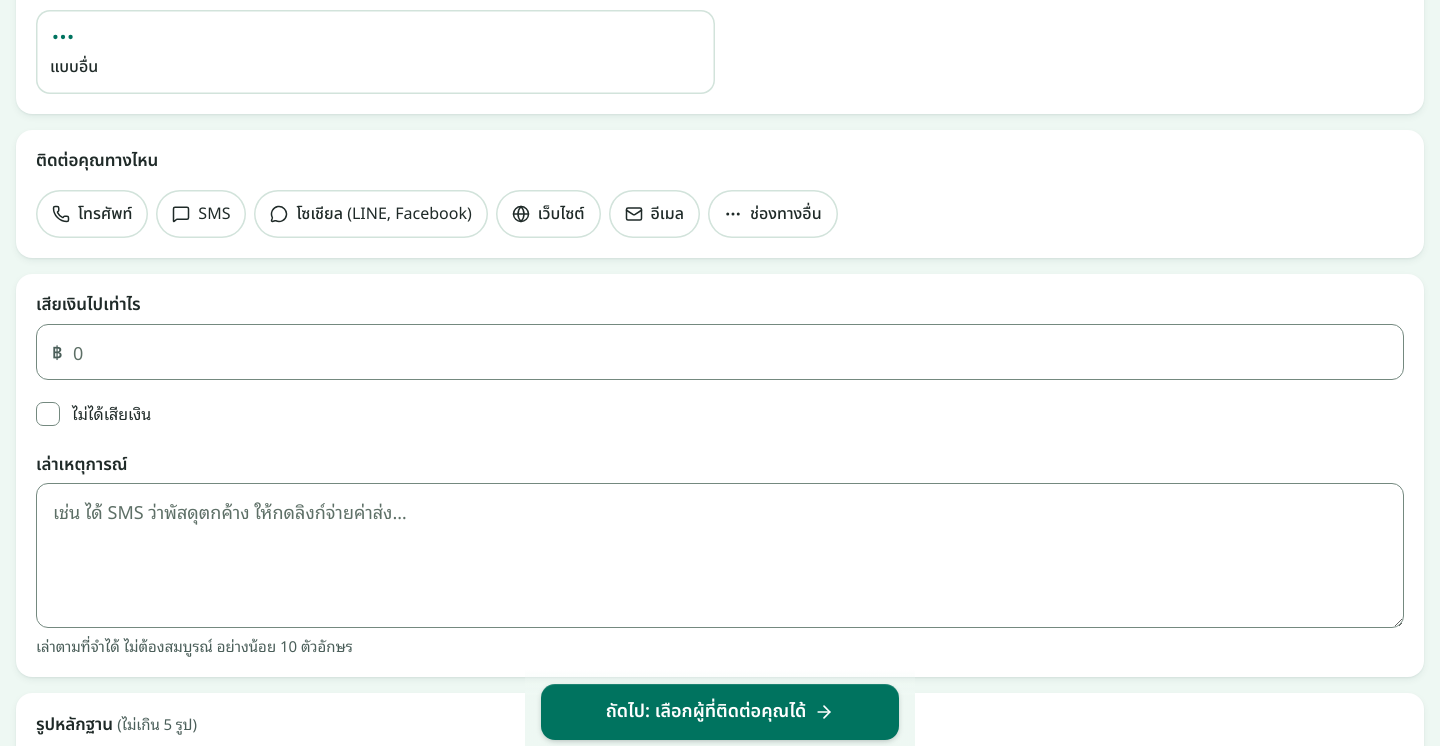
Test: report form › rejects an amount the API would refuse, and "no money lost" removes that requirement
(page scrolled)
In the field labelled "เสียเงินไปเท่าไร": [720, 352] box x1=36 y1=324 x2=1404 y2=380, type "12.345"
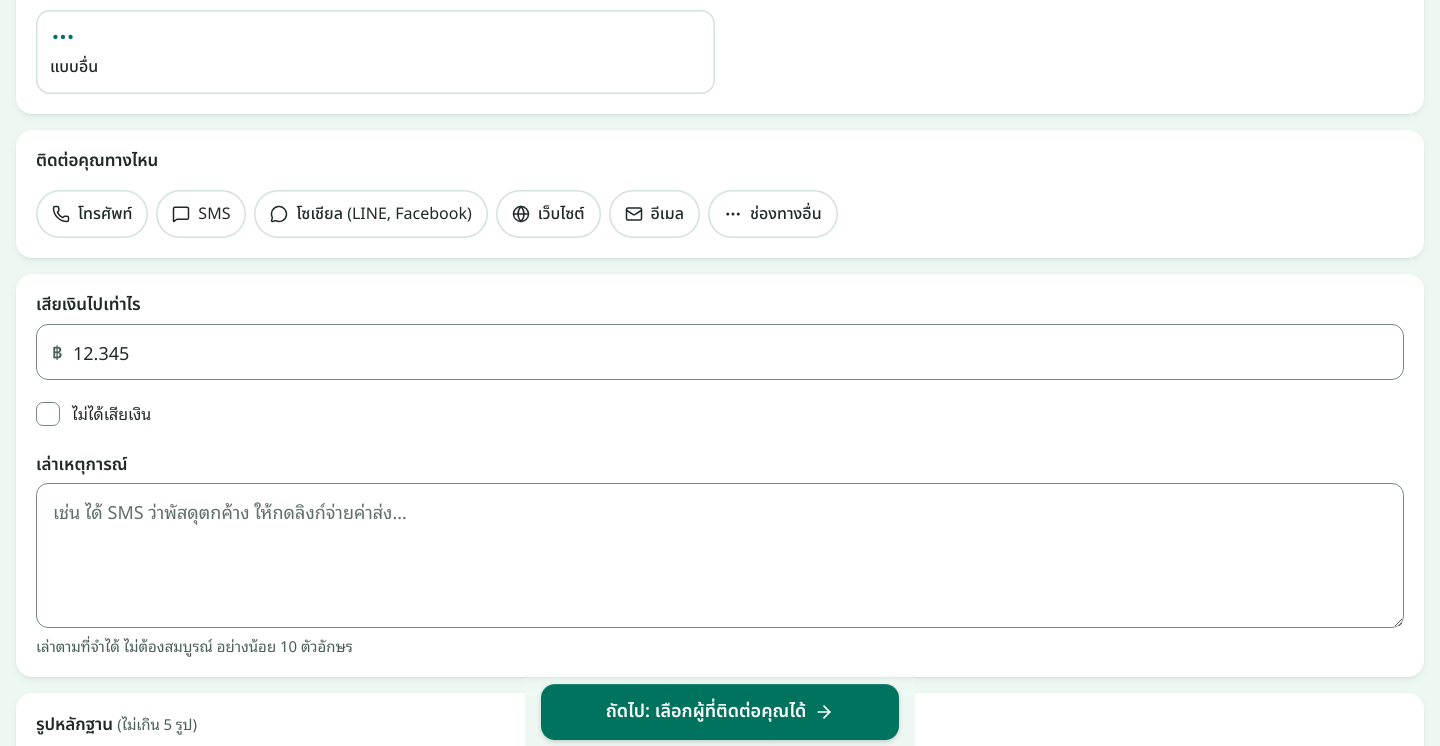
Click the button "ถัดไป: เลือกผู้ที่ติดต่อคุณได้": [720, 712] box x1=541 y1=684 x2=899 y2=740
(page scrolled)
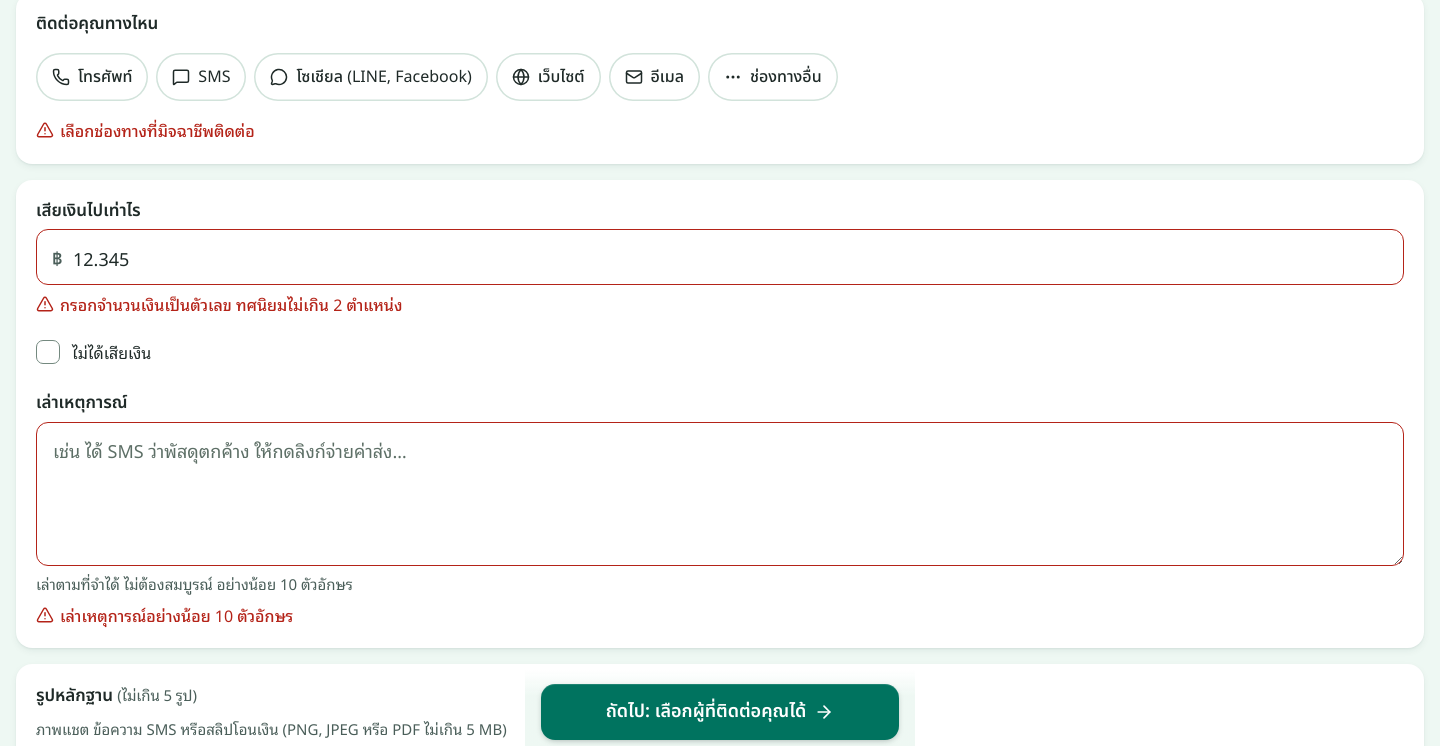
Check: the text "กรอกจำนวนเงินเป็นตัวเลข ทศนิยมไม่เกิน 2 ตำแหน่ง" is shown, box x1=36 y1=291 x2=402 y2=317
Click the checkbox named "ไม่ได้เสียเงิน": [48, 352] box x1=36 y1=340 x2=60 y2=364
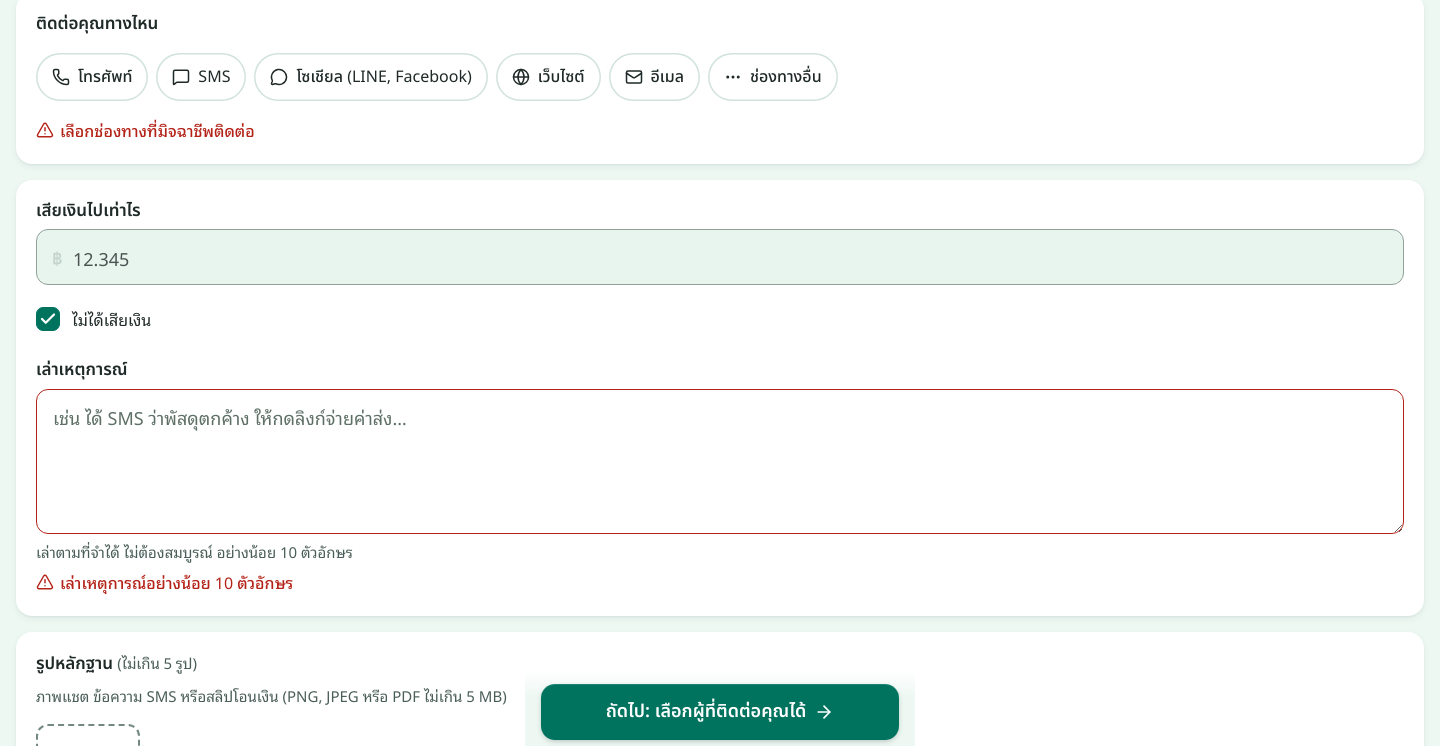
Check: the text "กรอกจำนวนเงินเป็นตัวเลข ทศนิยมไม่เกิน 2 ตำแหน่ง" is gone
